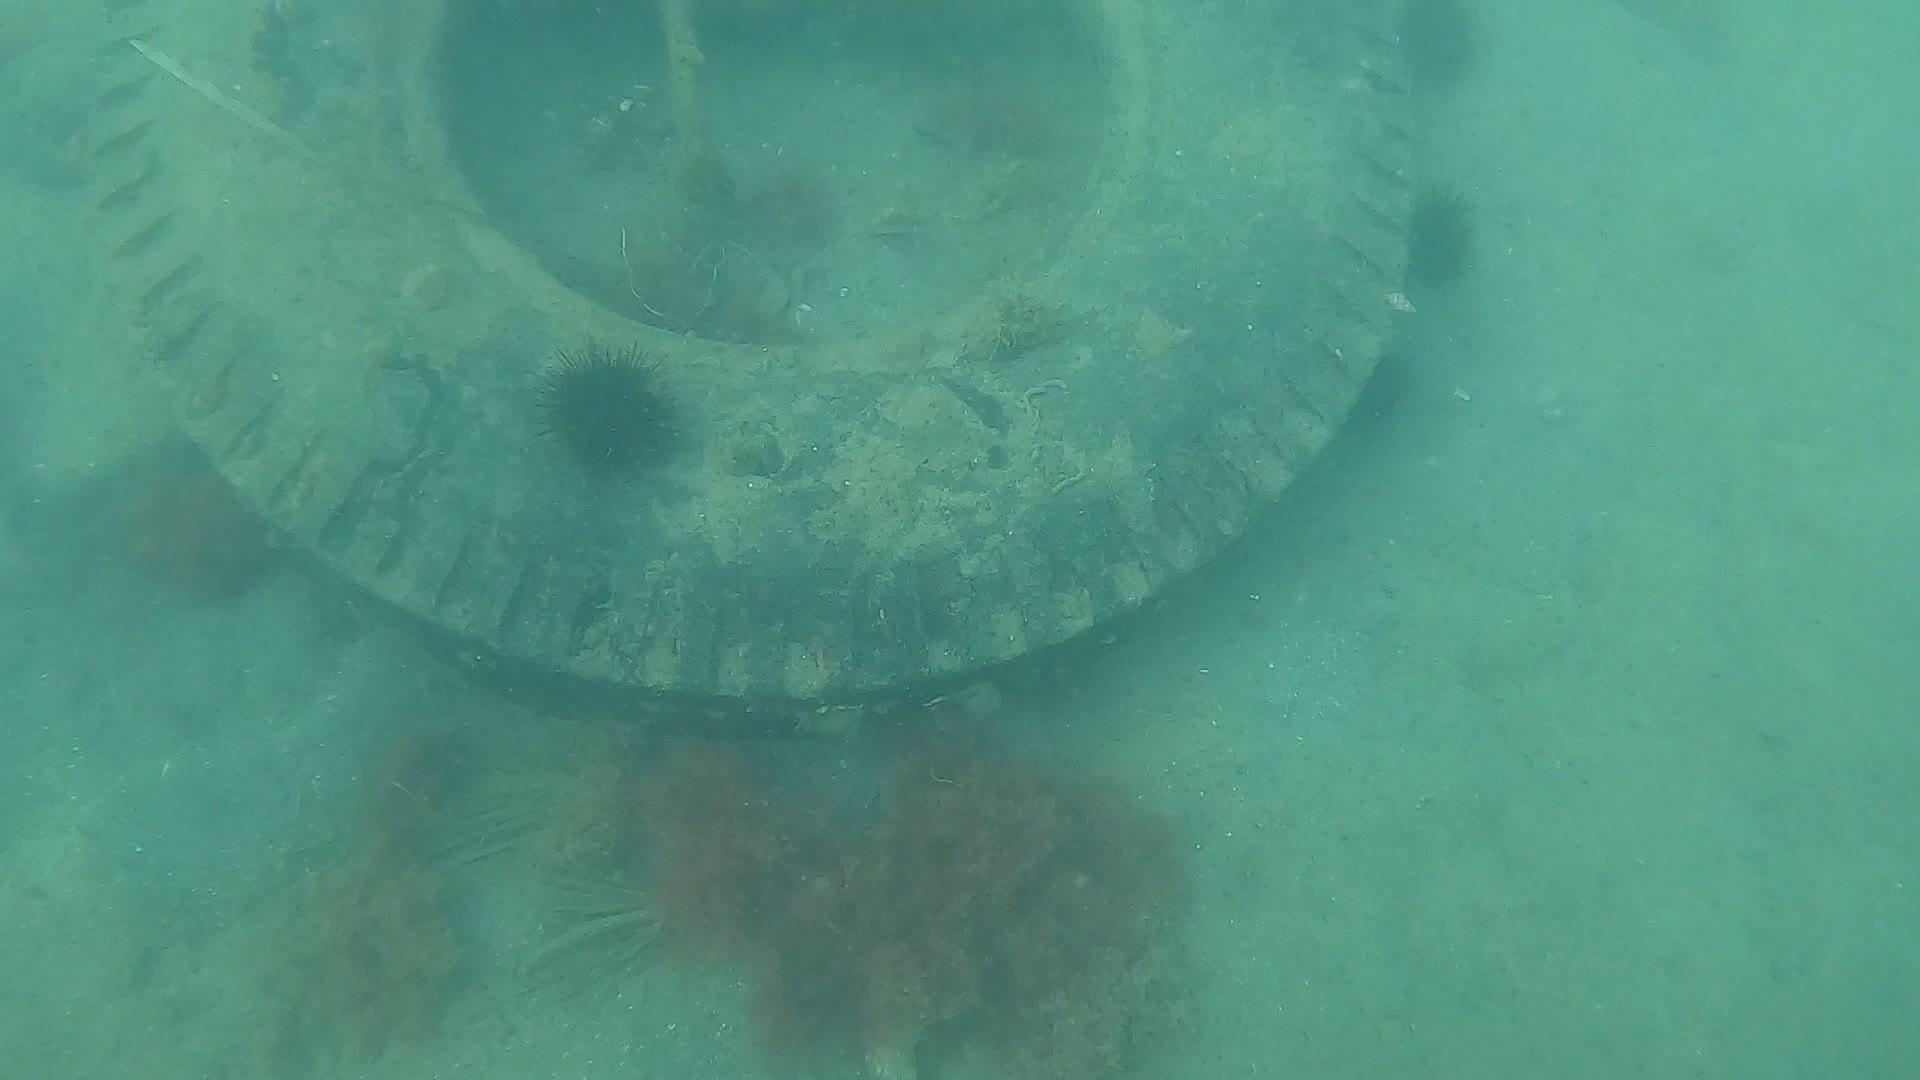tire: (84, 0, 1412, 738)
